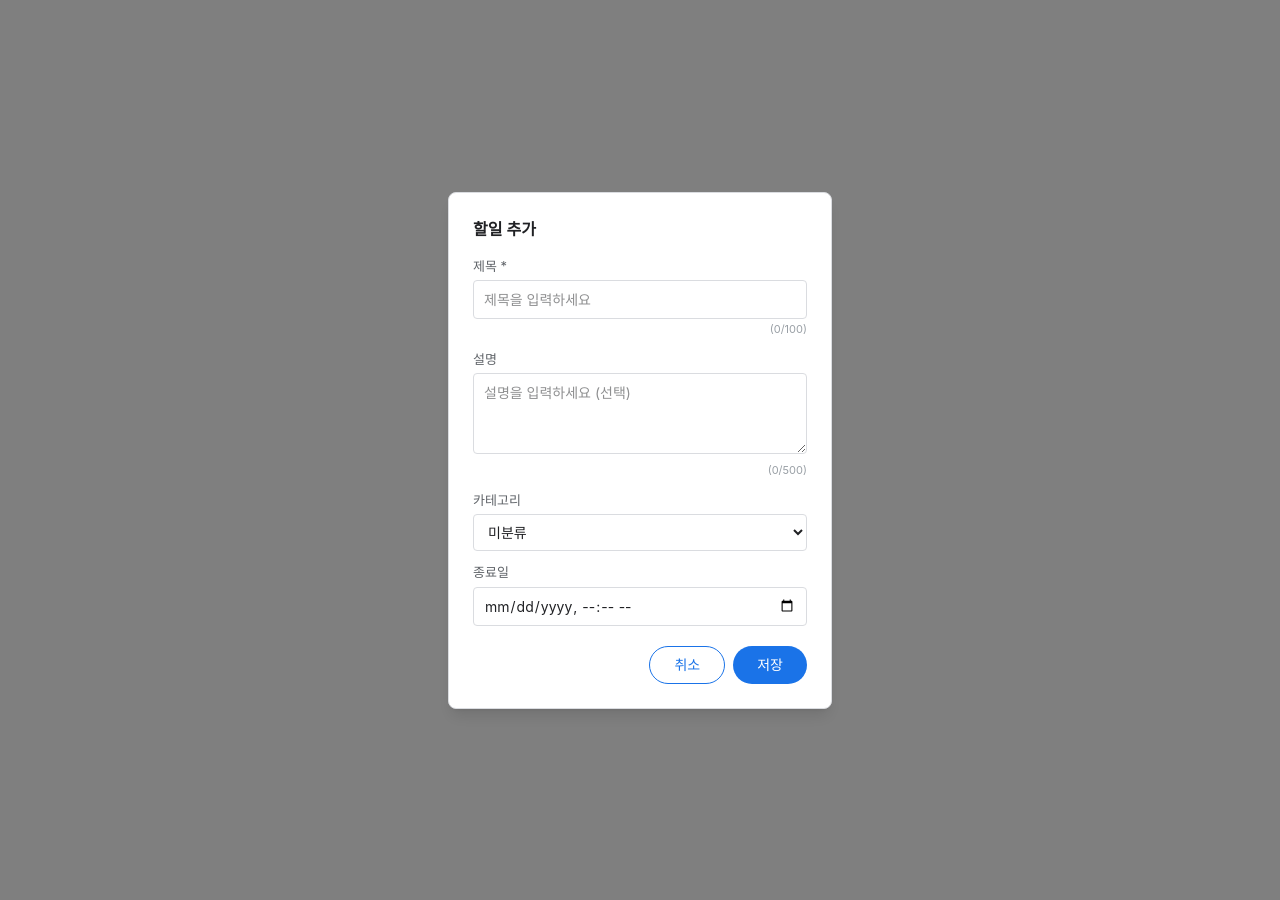
TodoForm › 제목 미입력 제출 시 오류 메시지 표시
What coordinates should you click on to do the following:
click the button "저장"
I would click on:
 (770, 664)
Its box is [733, 646, 807, 684].
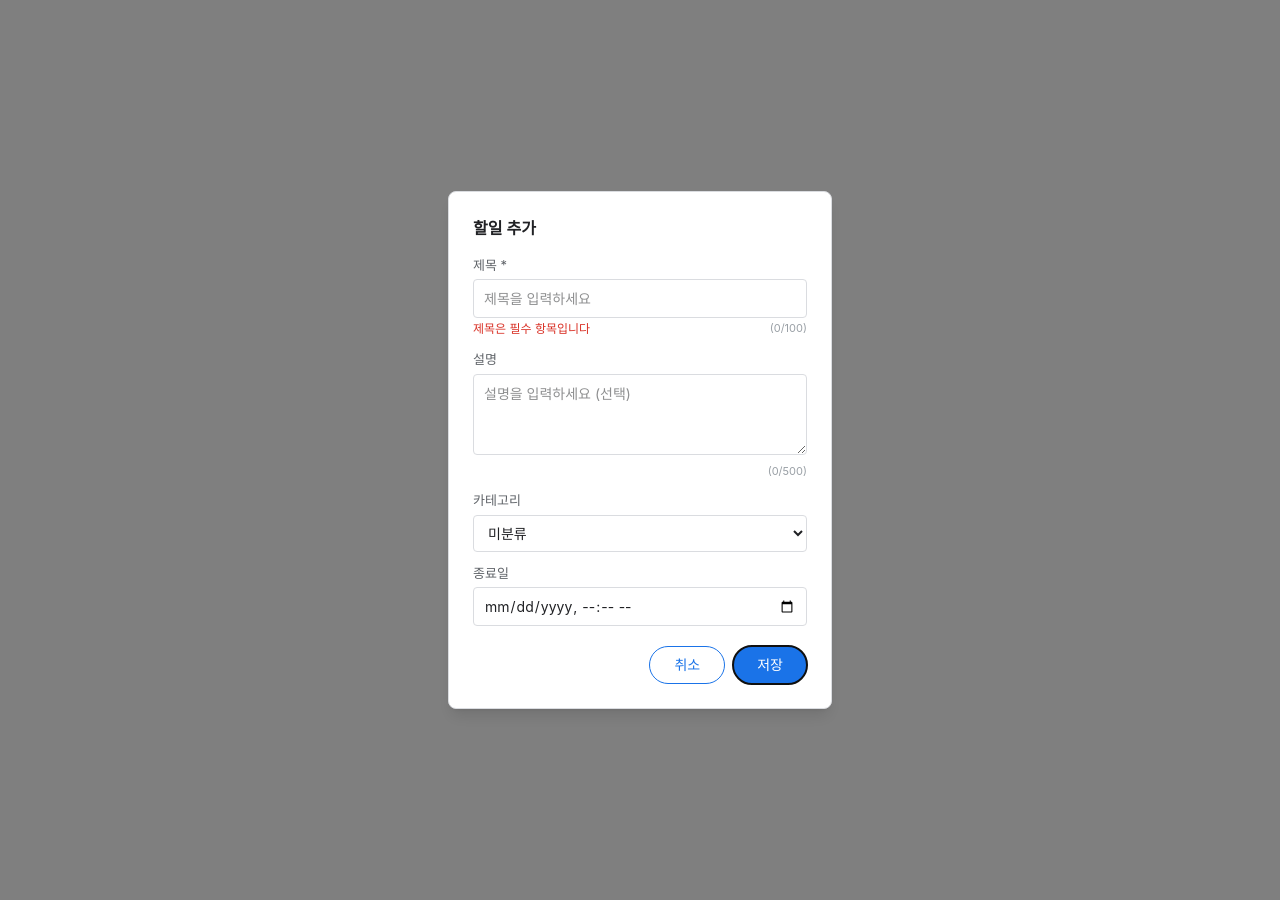
Expected: the text "제목은 필수 항목입니다" is shown, [473, 320, 590, 338]
